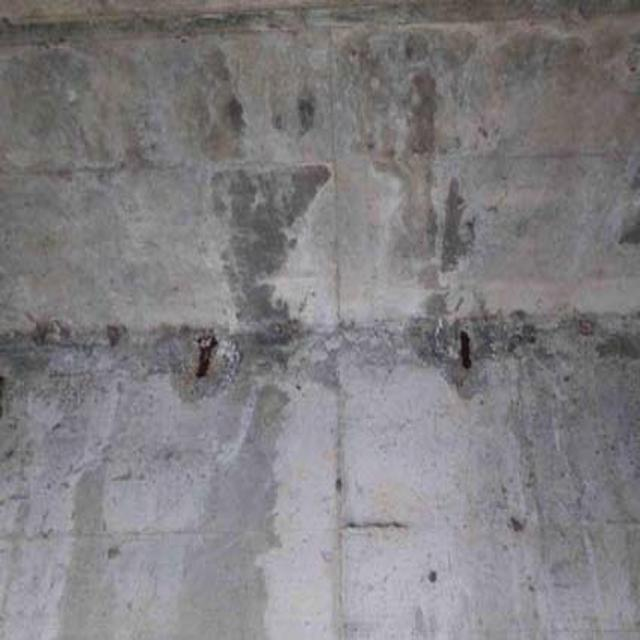spalling: (406, 303, 528, 384), (159, 317, 254, 400)
